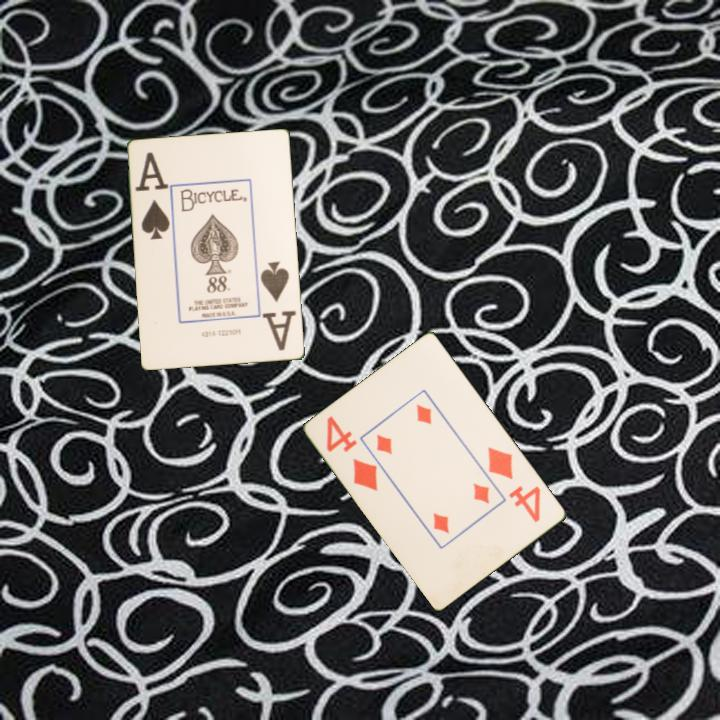4d: (484, 443, 544, 525), (323, 412, 381, 494)
As: (132, 149, 173, 243), (257, 258, 292, 345)
